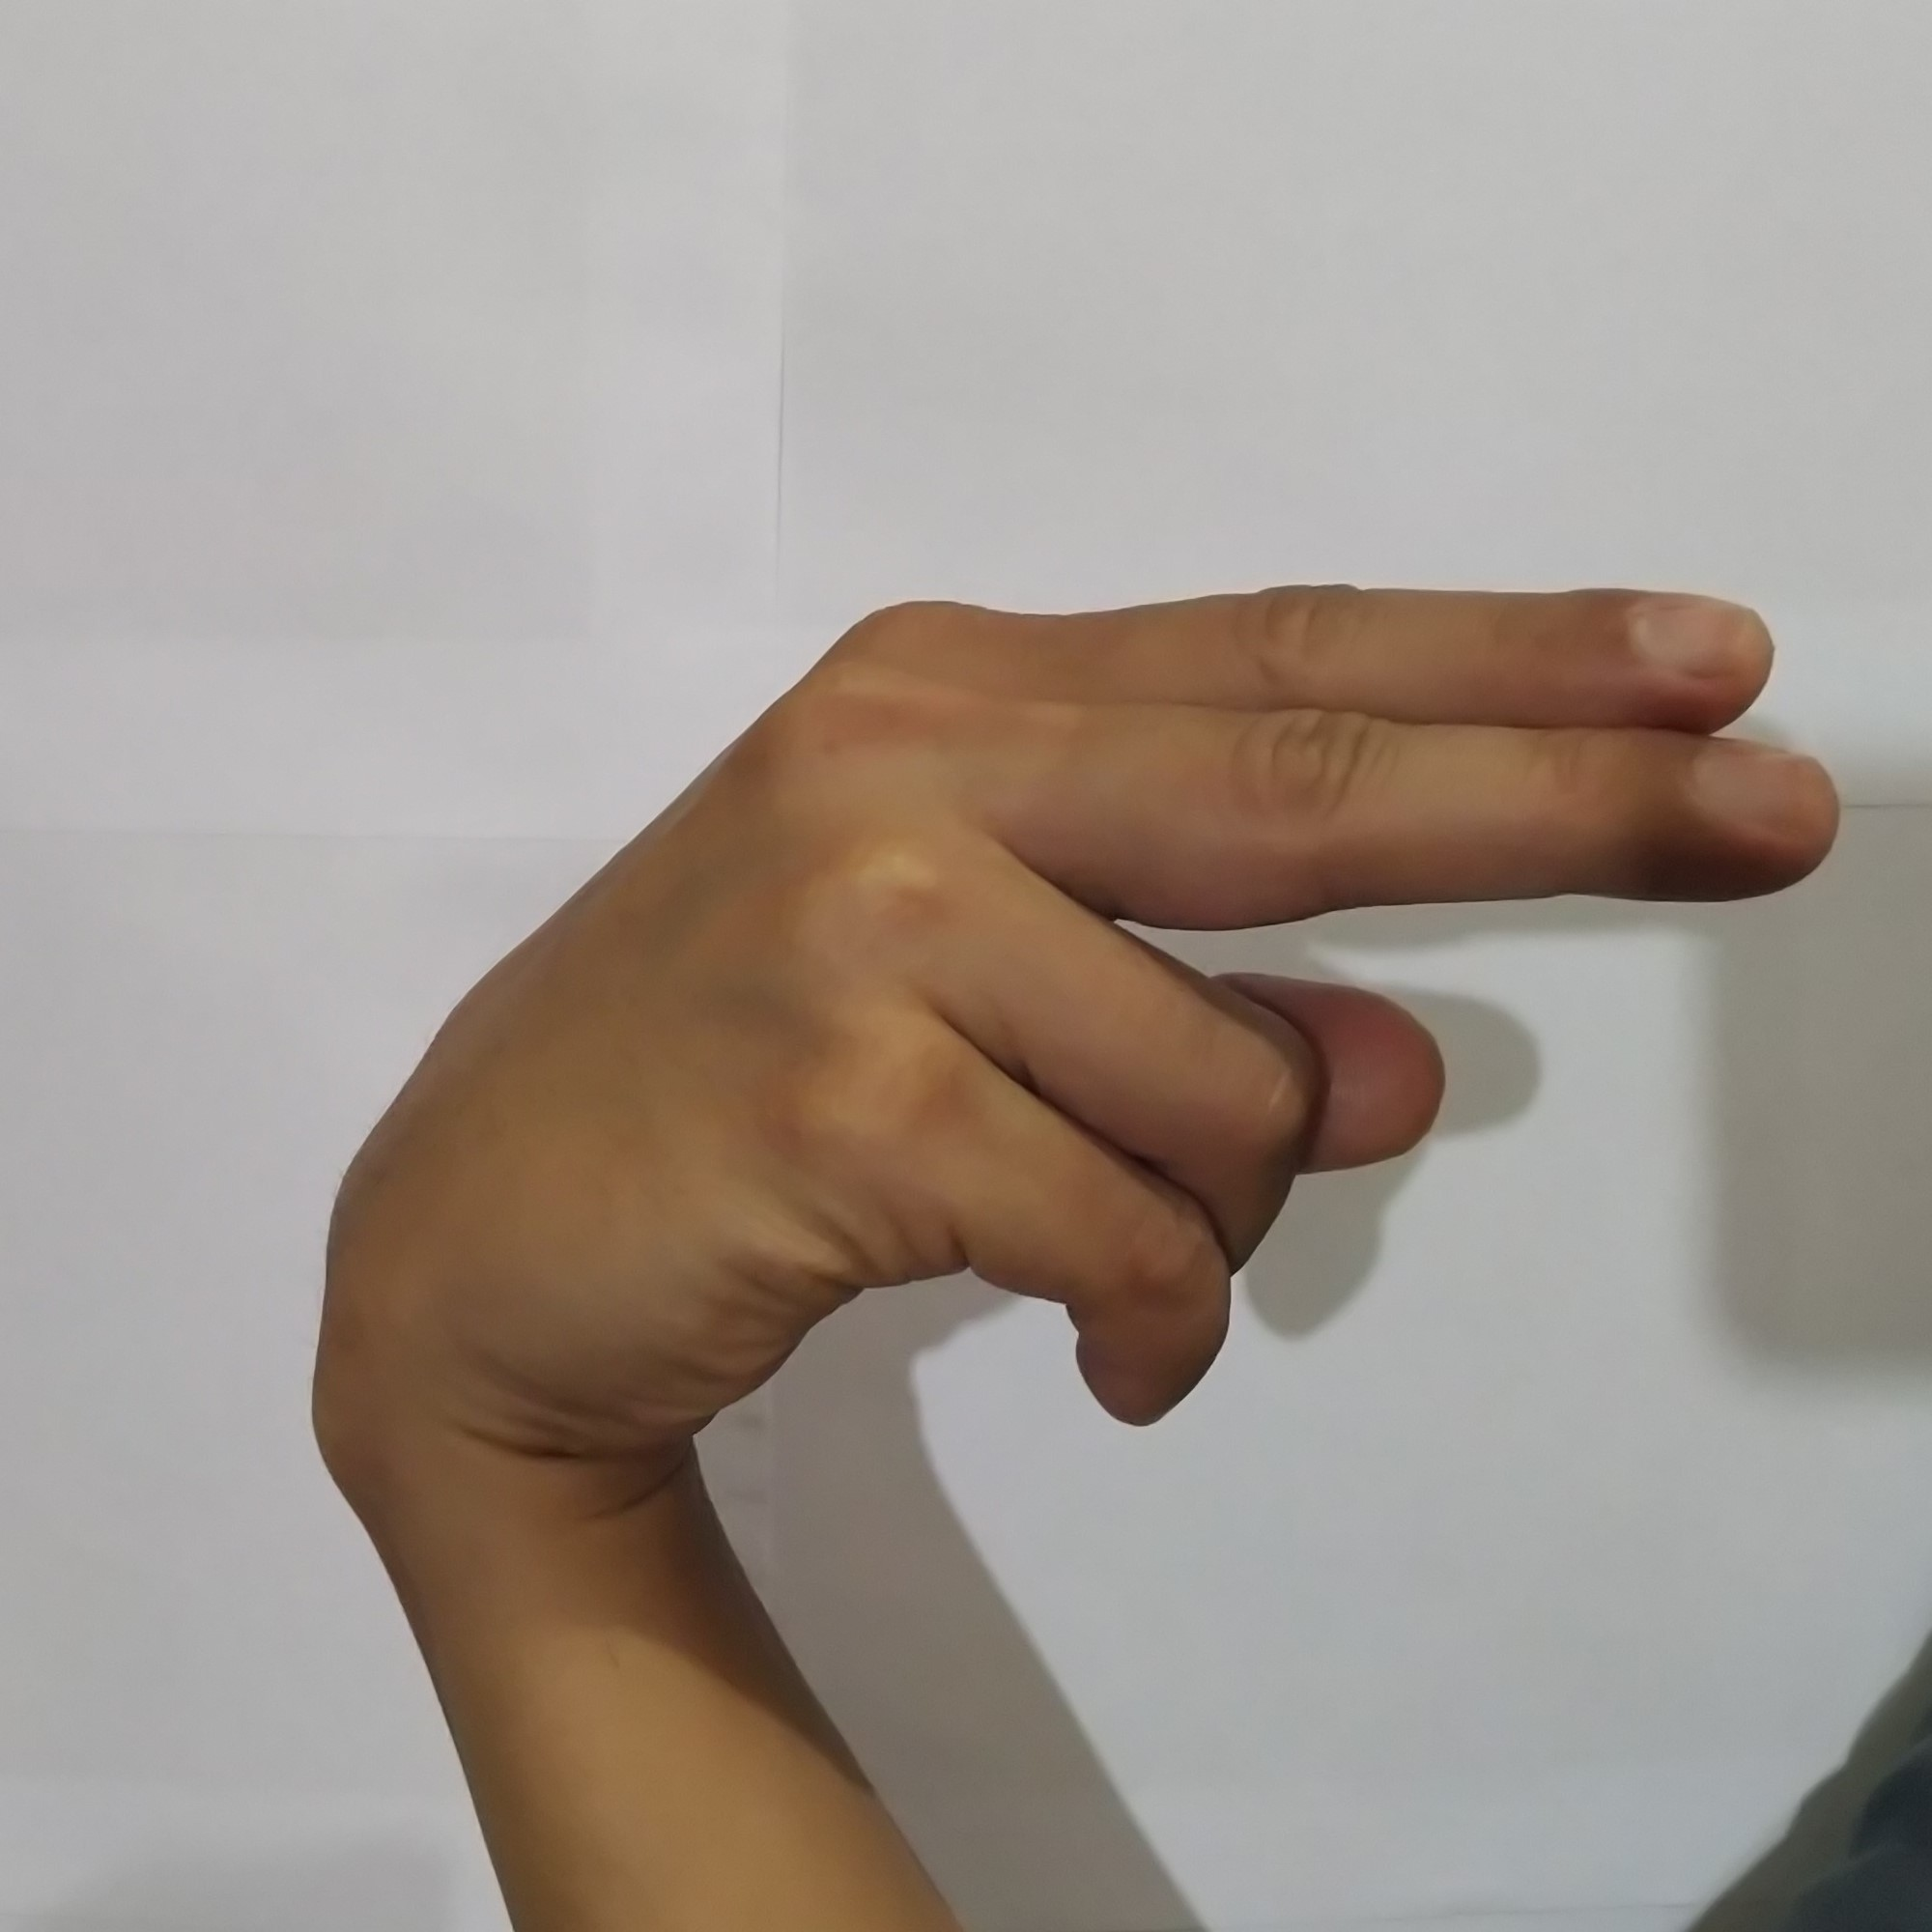H: (317, 556, 1865, 1445)
